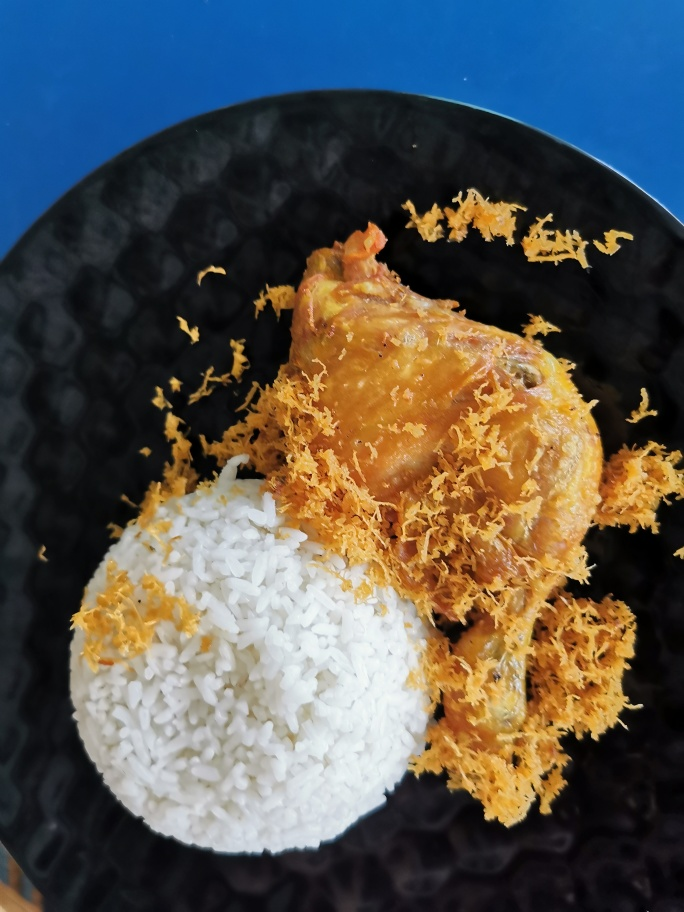ayam goreng: (253, 229, 609, 819)
nasi putih: (75, 480, 437, 854)
